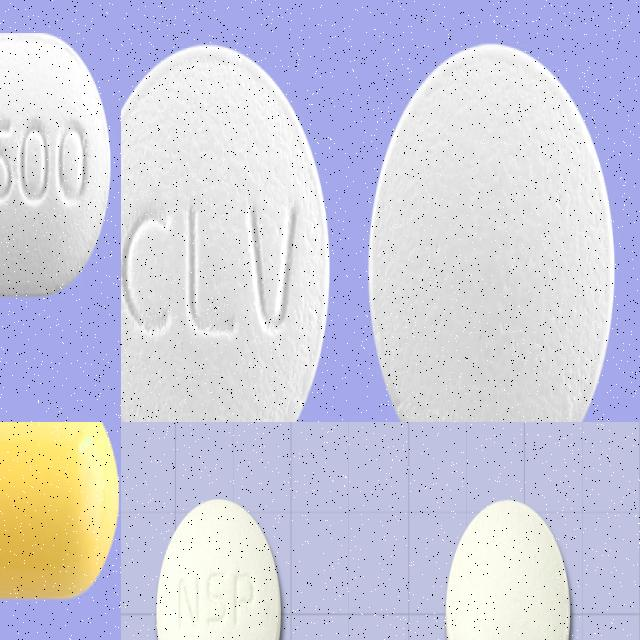Bearcin: (0, 27, 114, 302)
Cefaxamin Cap: (0, 422, 121, 614)
Ciproctan - 500mg: (153, 494, 292, 640), (442, 492, 575, 640)
Clevote: (366, 39, 615, 422), (121, 39, 330, 422)
